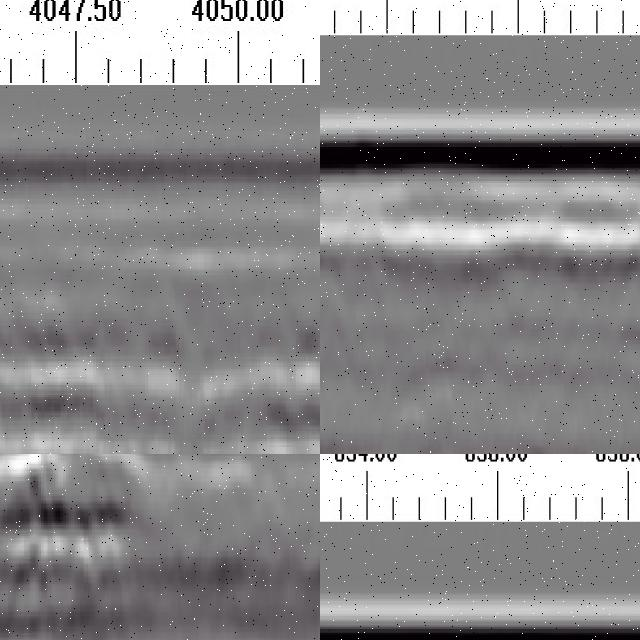loose: (1, 455, 138, 617)
